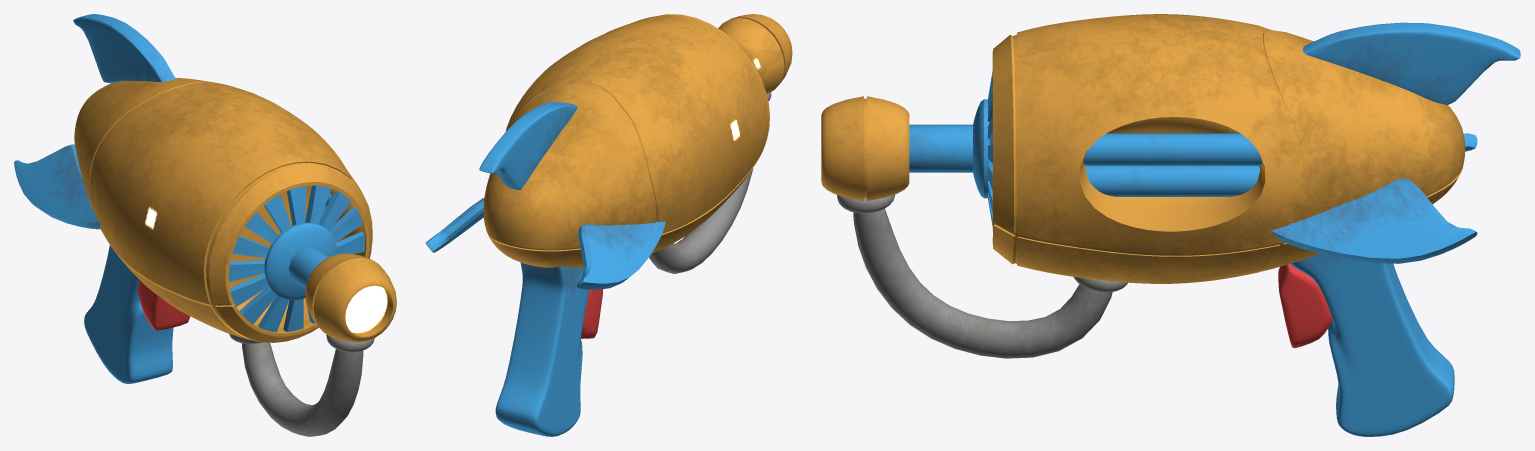
Rendered from RetroGun_01_skel.FBX.
3 renders of one model, left to right at view 1: azimuth 30°, elevation 25°; view 2: azimuth 150°, elevation 25°; view 3: azimuth 270°, elevation 25°, orthographic. The views are drawn at different scales.
Visible parts, largest first — view 1: RetroGun_01; view 2: RetroGun_01; view 3: RetroGun_01.
Boxes of the visible parts, x1=… form: RetroGun_01: x1=14, y1=14, x2=396, y2=436; RetroGun_01: x1=425, y1=14, x2=792, y2=436; RetroGun_01: x1=821, y1=14, x2=1520, y2=436.
Bounding box in the file's own units: 88.68 × 229 × 145.
Materials: 1 (1 with a texture image).
